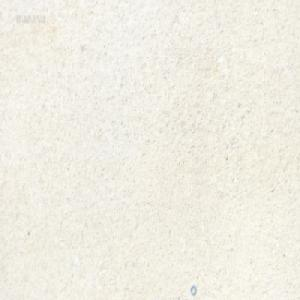Washer: (190, 284, 197, 296)
